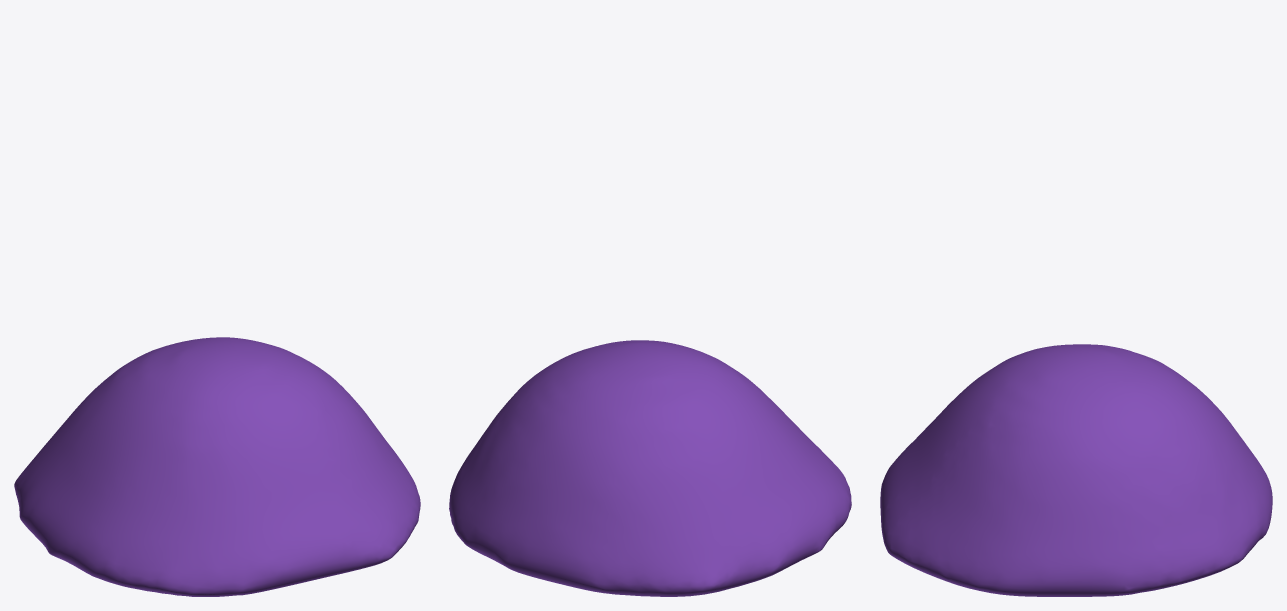
The model's file is f35_baseline.dae.
3 views of the same model, side by side, from view 1: azimuth 30°, elevation 25°; view 2: azimuth 150°, elevation 25°; view 3: azimuth 270°, elevation 25° (orthographic).
Visible parts, largest first — view 1: Slime; view 2: Slime; view 3: Slime.
Part boxes in pixels (x1,y1,x2,y2): Slime: (14,337,420,596); Slime: (449,340,851,596); Slime: (880,344,1272,596).
Size of the model in its own units: 2.63 by 3.77 by 2.61.
